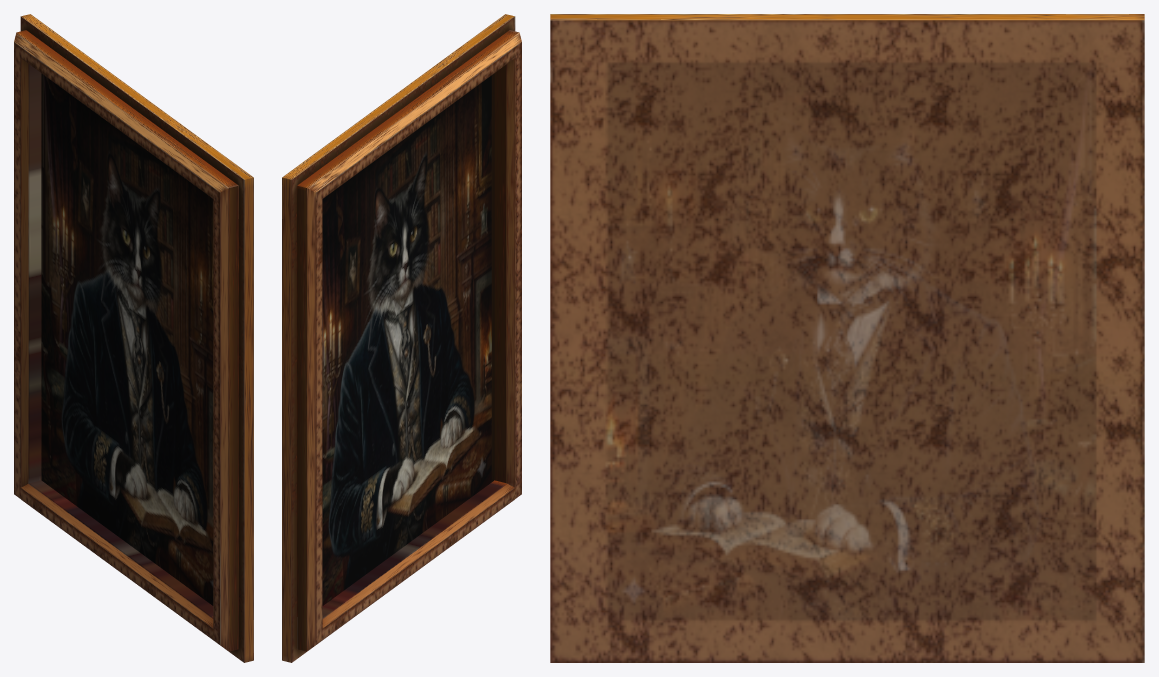
The model's file is photoframe_02.fbx.
3 renders of one model, left to right at view 1: azimuth 30°, elevation 25°; view 2: azimuth 150°, elevation 25°; view 3: azimuth 270°, elevation 25°, orthographic. The views are drawn at different scales.
Visible parts, largest first — view 1: photoframe_02; view 2: photoframe_02; view 3: photoframe_02.
Part boxes in pixels (x1=…): photoframe_02: x1=14, y1=14, x2=253, y2=662; photoframe_02: x1=282, y1=14, x2=521, y2=662; photoframe_02: x1=550, y1=14, x2=1144, y2=662.
Bounding box in the file's own units: 10.23 × 187 × 157.
Materials: 1 (1 with a texture image).
